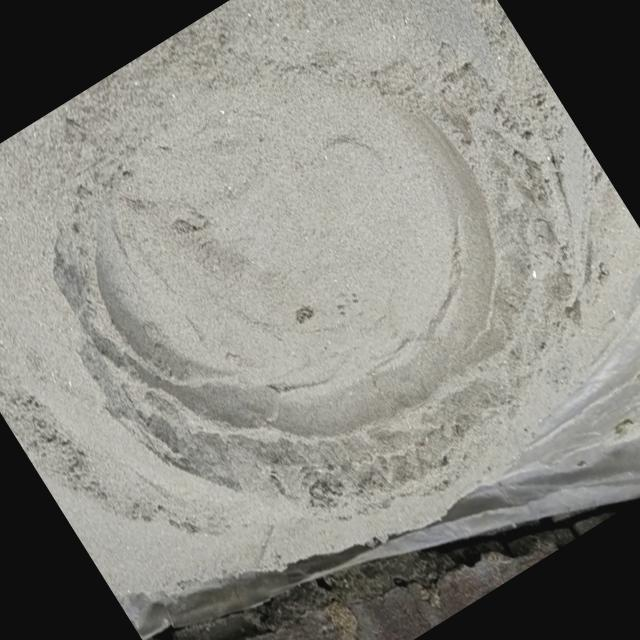C40: (77, 70, 497, 457)
